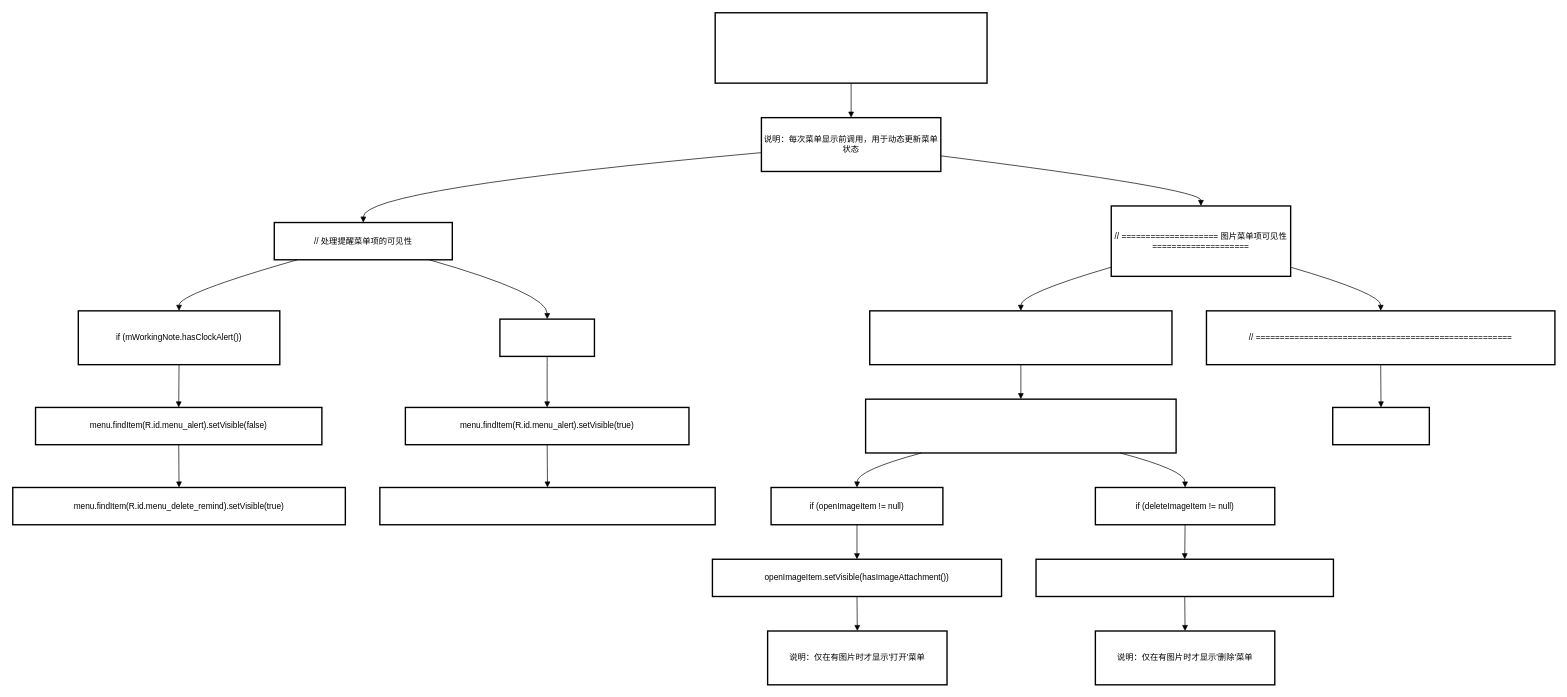
Image size: 1567x697. Some labels were removed from this diagram. The shapes that lost their labels are listed below. From the top down, each one's centre as x and y in pixels, then its label:
[850,47]: [NoteEditActivity.java] NoteEditActivity.onPrepareOptionsMenu(Menu menu)
[547,337]: else (反之)
[1020,337]: MenuItem openImageItem = menu.findItem(R.id.menu_open_image_attachment)
[1020,425]: MenuItem deleteImageItem = menu.findItem(R.id.menu_delete_image_attachment)
[1381,425]: return true
[547,505]: menu.findItem(R.id.menu_delete_remind).setVisible(false)
[1184,577]: deleteImageItem.setVisible(hasImageAttachment())
